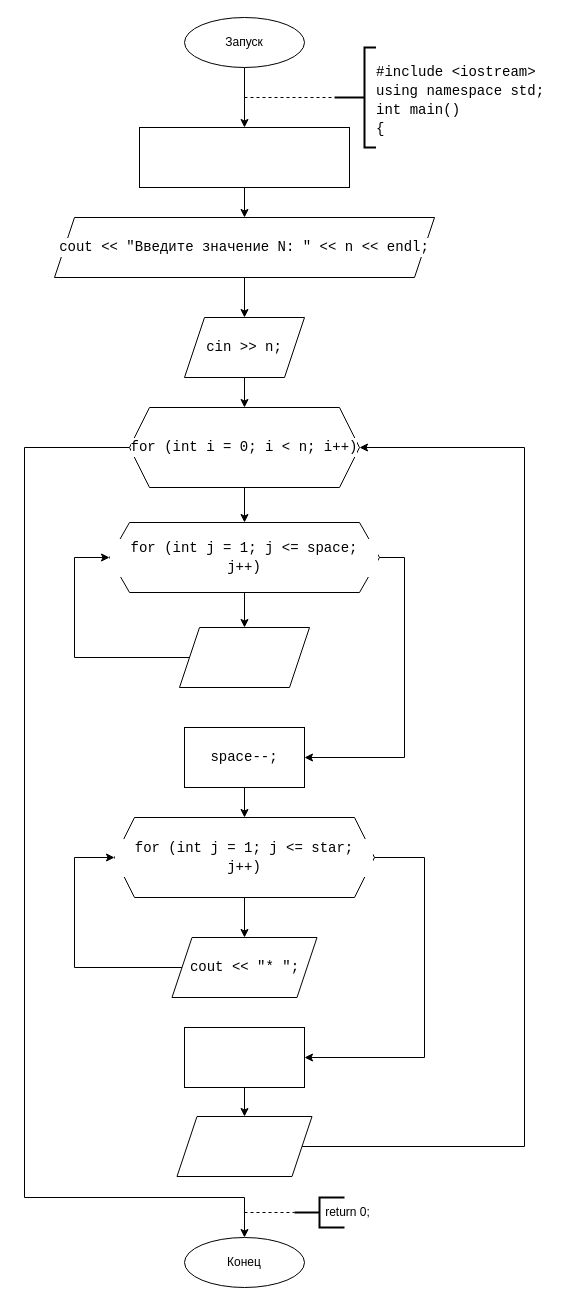
This 572x1305 diagram has some shape labels left out. The box of each missing label's shape, as (x1, y1, x2, y2) in pixels:
cout << " " ;: (178, 626, 310, 688)
cout << endl ;: (176, 1116, 312, 1176)
int n, space = n - 1, star = 1;: (138, 126, 350, 188)
star += 1 ;: (184, 1026, 304, 1088)
